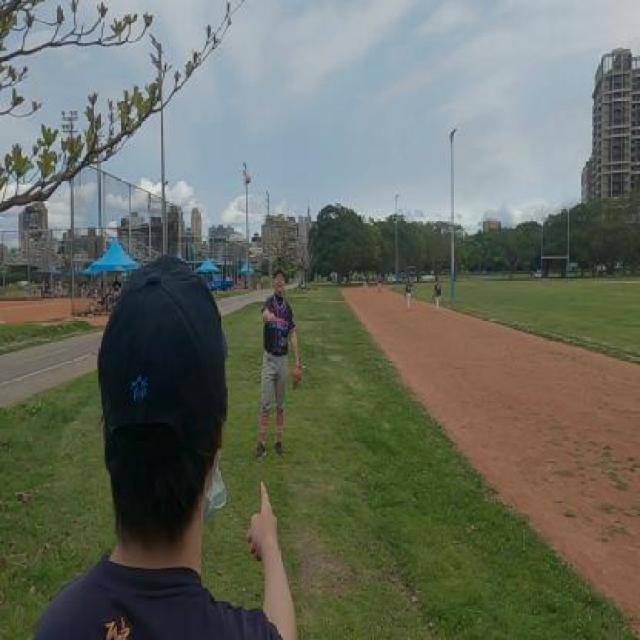baseball: (246, 174, 252, 183)
